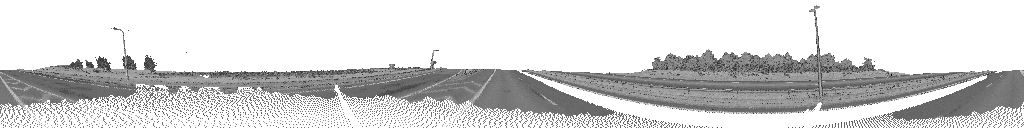light_pole: (809, 5, 823, 97), (111, 27, 127, 56), (430, 50, 438, 68)
